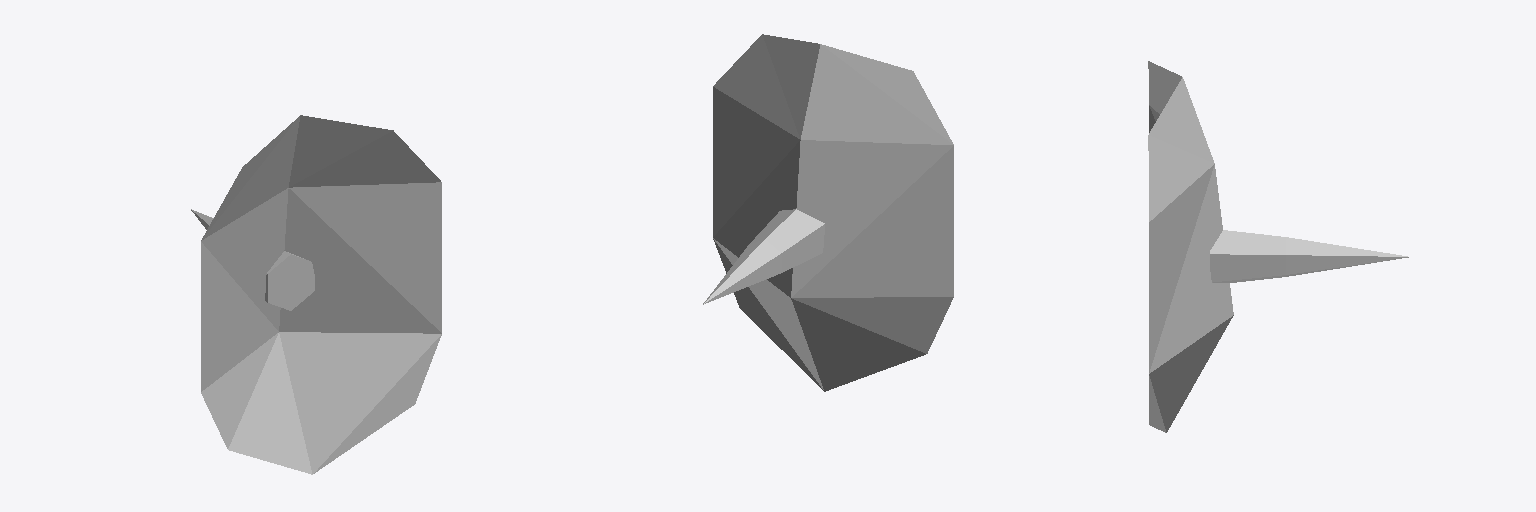
Rendered from jumpingman.obj.
3 views of the same model, side by side, from view 1: azimuth 30°, elevation 25°; view 2: azimuth 150°, elevation 25°; view 3: azimuth 270°, elevation 25° (orthographic).
Visible parts, largest first — view 1: face_Plane.001; view 2: face_Plane.001; view 3: face_Plane.001.
Boxes of the visible parts, <box> form: face_Plane.001: <box>191,115,441,474</box>; face_Plane.001: <box>703,34,953,391</box>; face_Plane.001: <box>1148,61,1408,432</box>.
Size of the model in its own units: 1.22 by 1.72 by 1.16.